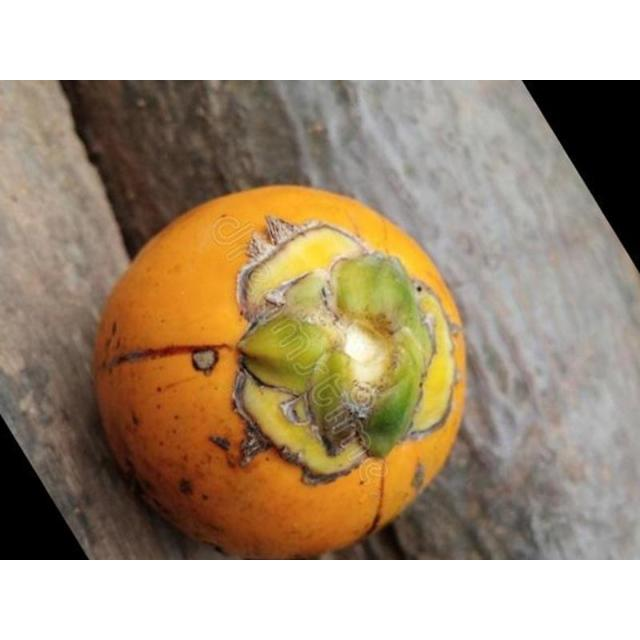good: (93, 186, 469, 559)
